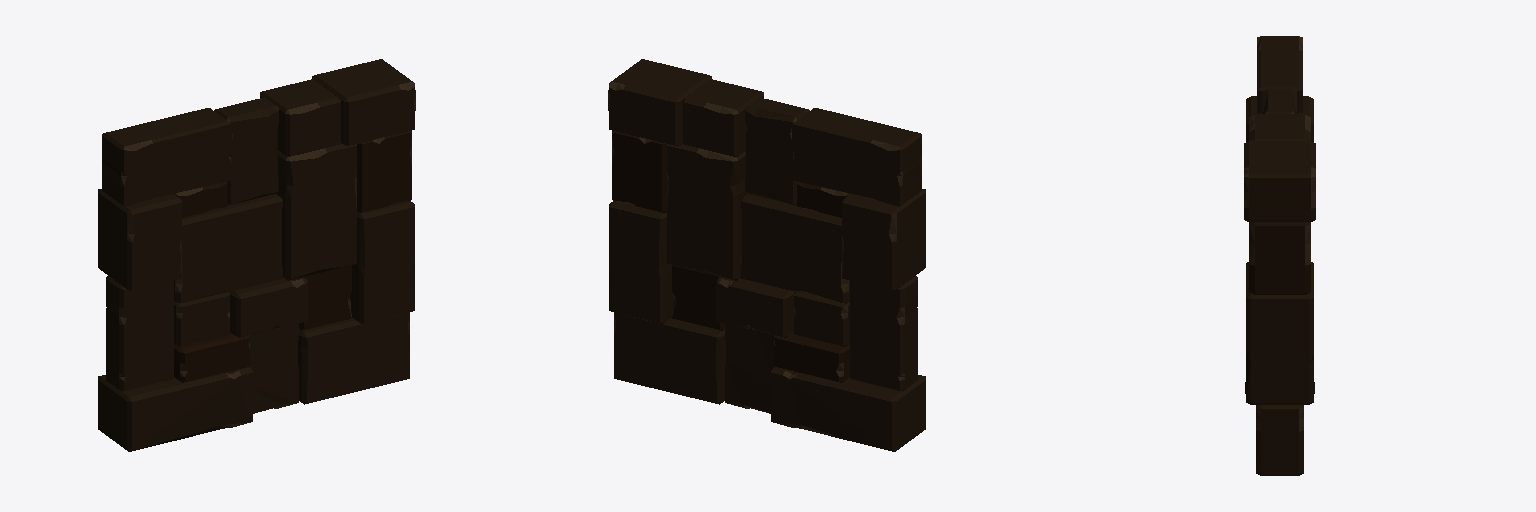
The model's file is Wall_Modular.obj.
3 views of the same model, side by side, from view 1: azimuth 30°, elevation 25°; view 2: azimuth 150°, elevation 25°; view 3: azimuth 270°, elevation 25° (orthographic).
Visible parts, largest first — view 1: Wall_Modular; view 2: Wall_Modular; view 3: Wall_Modular.
Boxes of the visible parts, box(x1,y1,x2,y2) form: Wall_Modular: box(98, 59, 415, 451); Wall_Modular: box(608, 59, 925, 451); Wall_Modular: box(1244, 36, 1315, 475).
Bounding box in the file's own units: 2 × 2.01 × 0.4381.